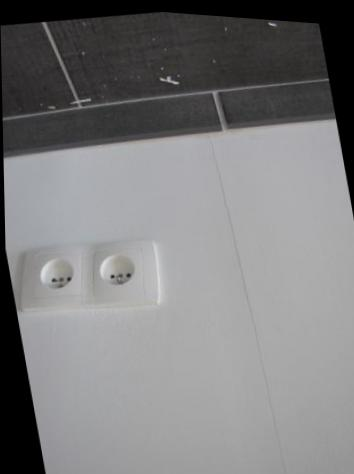crack: (211, 138, 284, 474)
